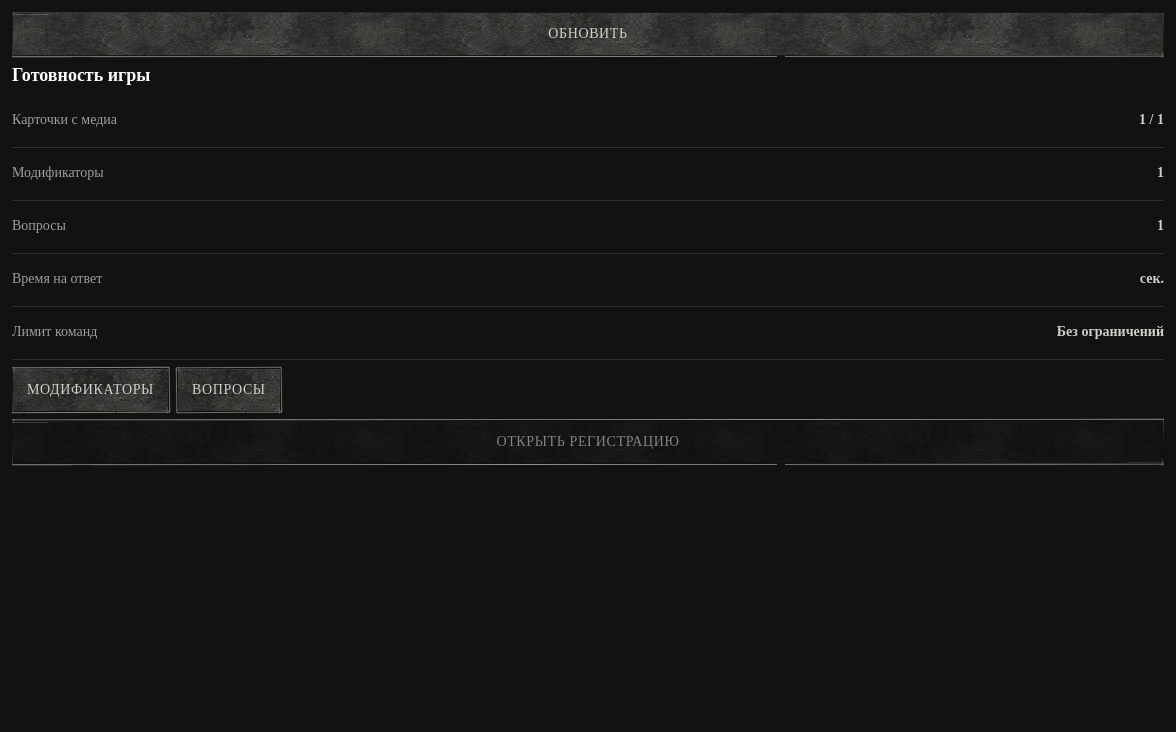
GameSetupRegistrationPanel › shows reload failures without issuing another publication request
Click the button "Обновить" at (588,34), box [12,12,1164,56]
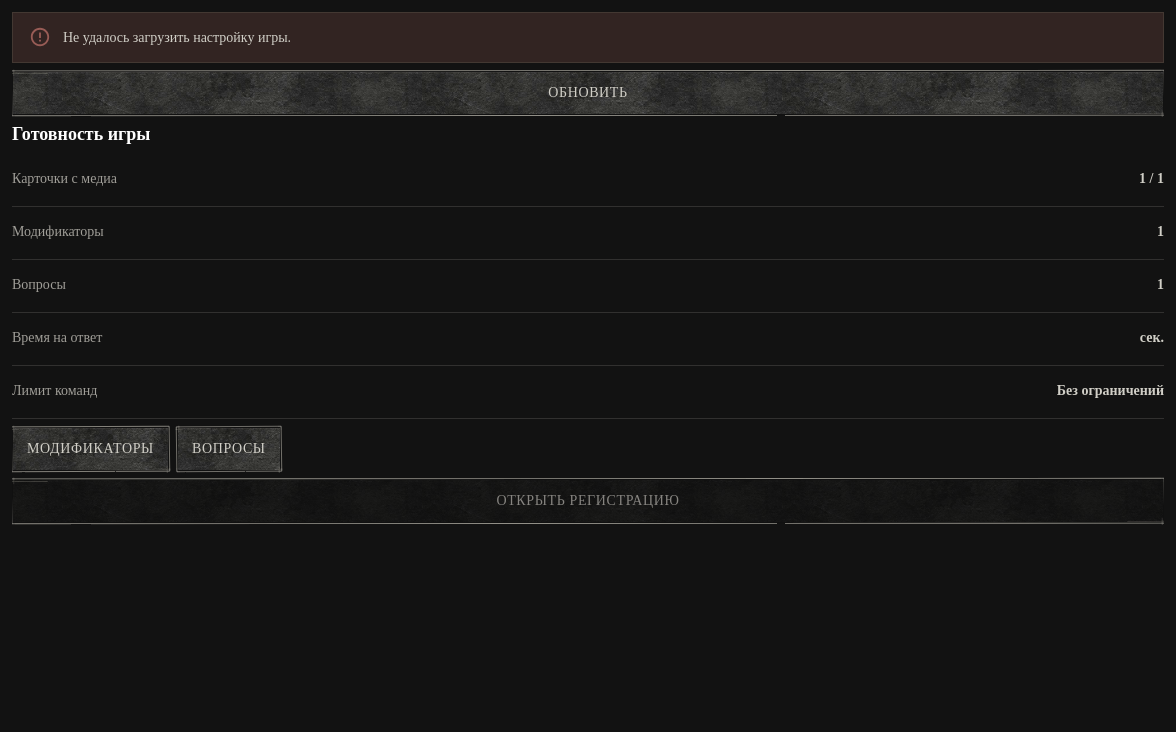
Result: the text "Не удалось загрузить настройку игры." is shown at [63,30,291,45]
